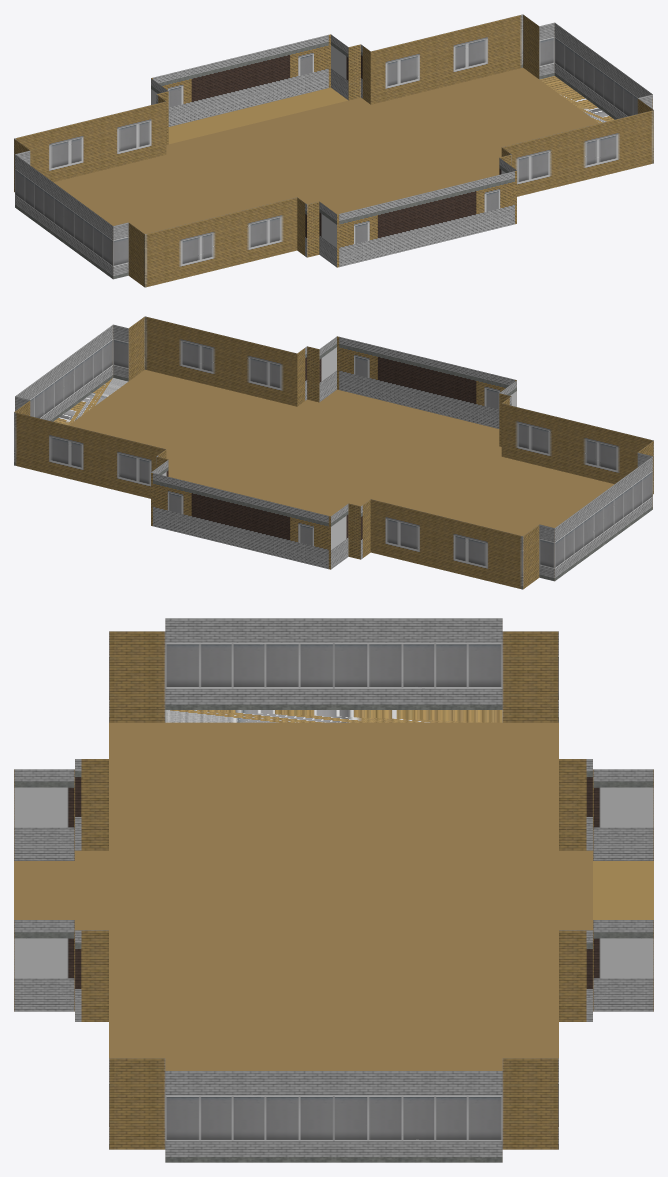
The model's file is building_lod_1.fbx.
3 views of the same model, one above another, from view 1: azimuth 30°, elevation 25°; view 2: azimuth 150°, elevation 25°; view 3: azimuth 270°, elevation 25° (orthographic). The views are drawn at different scales.
Visible parts, largest first — view 1: building_lod_1; view 2: building_lod_1; view 3: building_lod_1.
Boxes of the visible parts, x1=… form: building_lod_1: x1=14, y1=14, x2=653, y2=287; building_lod_1: x1=14, y1=316, x2=653, y2=589; building_lod_1: x1=14, y1=618, x2=653, y2=1162.
Size of the model in its own units: 3180 by 300 by 1900.
